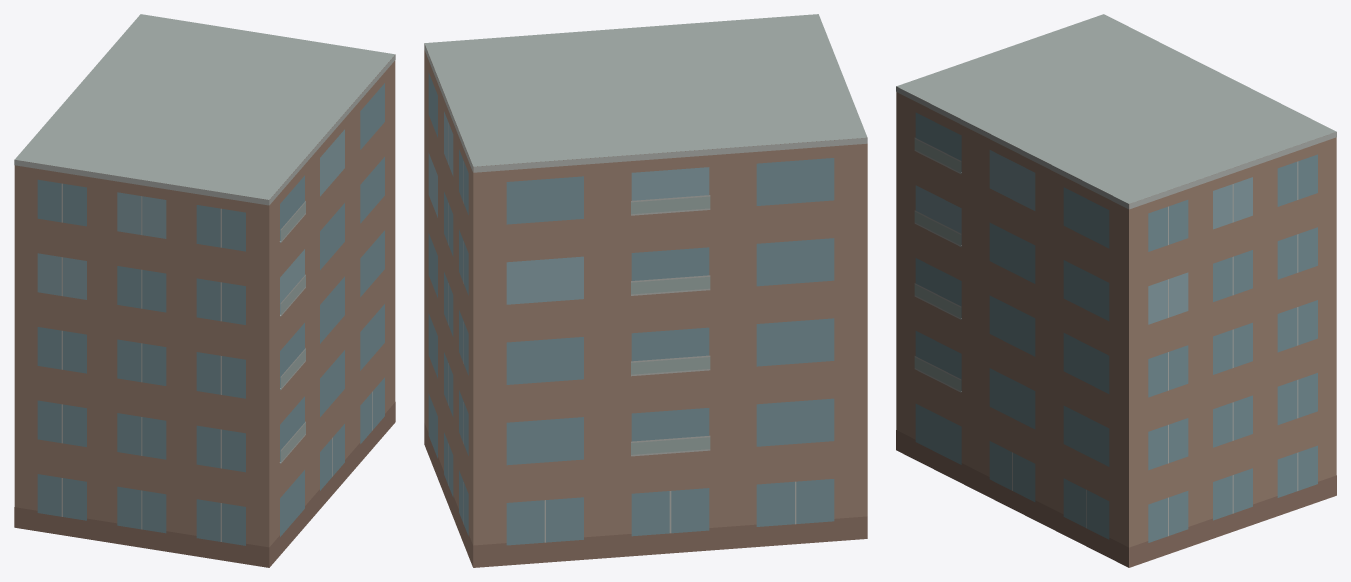
Rendered from survey-upis-32845711.glb.
3 renders of one model, left to right at view 1: azimuth 30°, elevation 25°; view 2: azimuth 150°, elevation 25°; view 3: azimuth 270°, elevation 25°, orthographic. The views are drawn at different scales.
Visible parts, largest first — view 1: survey-upis-32845711.tmp; view 2: survey-upis-32845711.tmp; view 3: survey-upis-32845711.tmp.
Part boxes in pixels (left/top/right/bottom): survey-upis-32845711.tmp: left=14, top=14, right=395, bottom=567; survey-upis-32845711.tmp: left=424, top=14, right=867, bottom=567; survey-upis-32845711.tmp: left=896, top=14, right=1336, bottom=567.
Bounding box in the file's own units: 18.1 × 16.15 × 17.73.
